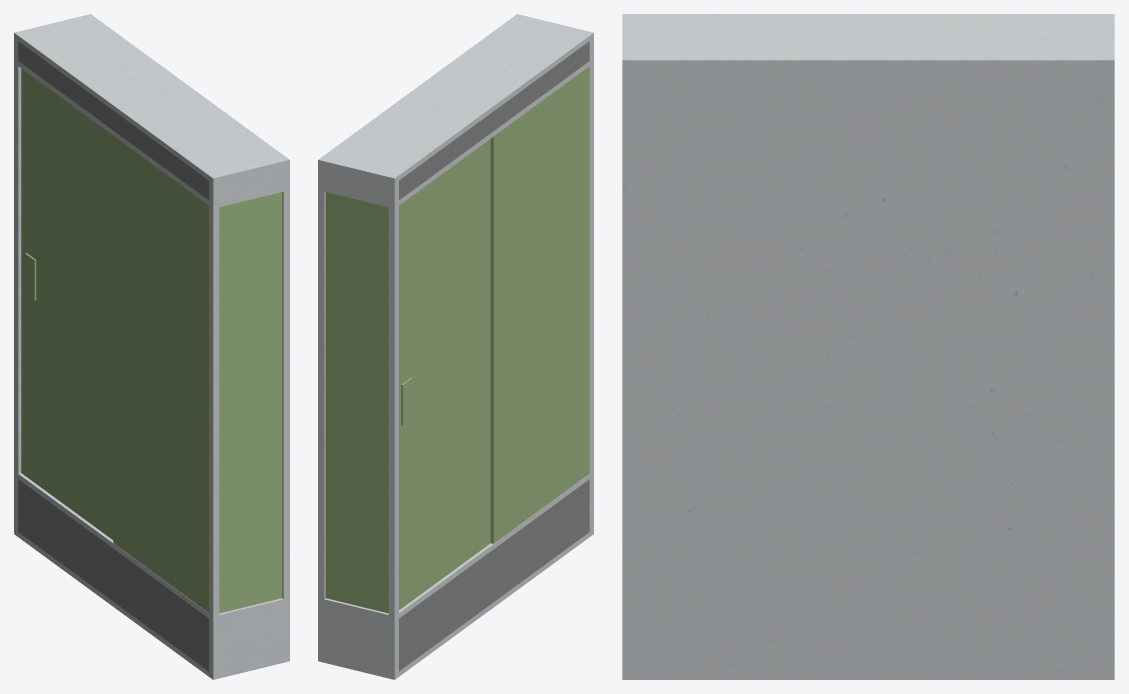
Rendered from SM_解剖室_标本柜_01.fbx.
3 renders of one model, left to right at view 1: azimuth 30°, elevation 25°; view 2: azimuth 150°, elevation 25°; view 3: azimuth 270°, elevation 25°, orthographic. The views are drawn at different scales.
Visible parts, largest first — view 1: SM_解剖室_标本柜_01; view 2: SM_解剖室_标本柜_01; view 3: SM_解剖室_标本柜_01.
Boxes of the visible parts, left/top/right/bottom form: SM_解剖室_标本柜_01: left=14, top=14, right=289, bottom=679; SM_解剖室_标本柜_01: left=318, top=14, right=593, bottom=679; SM_解剖室_标本柜_01: left=622, top=14, right=1114, bottom=679.
Size of the model in its own units: 400 by 2500 by 1800.
